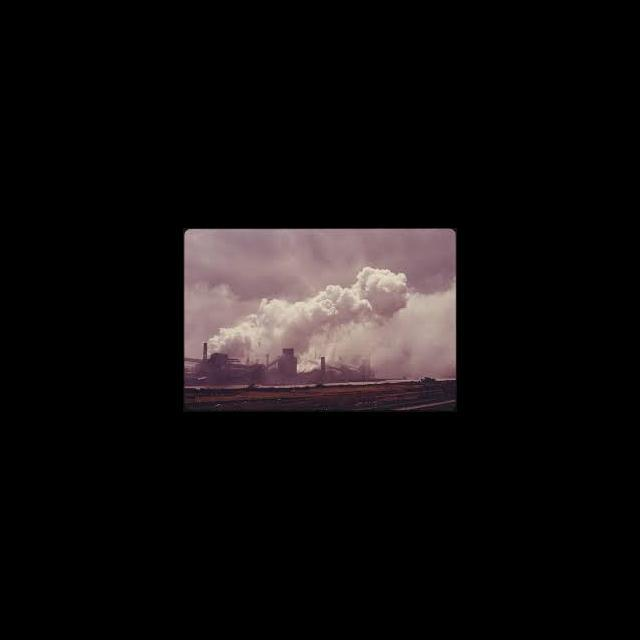Smoke: (220, 266, 410, 348)
